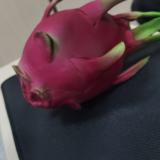pitaya: (18, 1, 160, 107)
